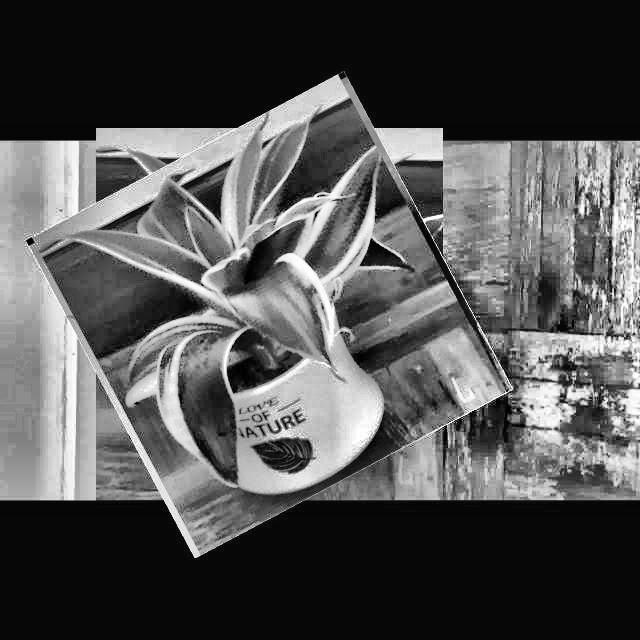plants: (58, 102, 481, 526)
